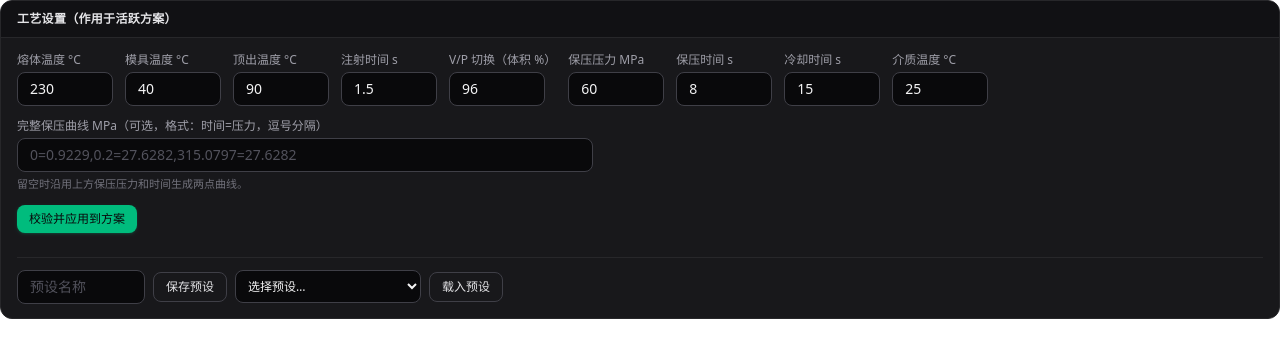
it: ProcessPanel › 校验发现问题：渲染问题清单且不写入方案
Type "999" into the number field labelled "熔体温度 °C".
click(65, 89); type("999")  # box [17,72,113,106]
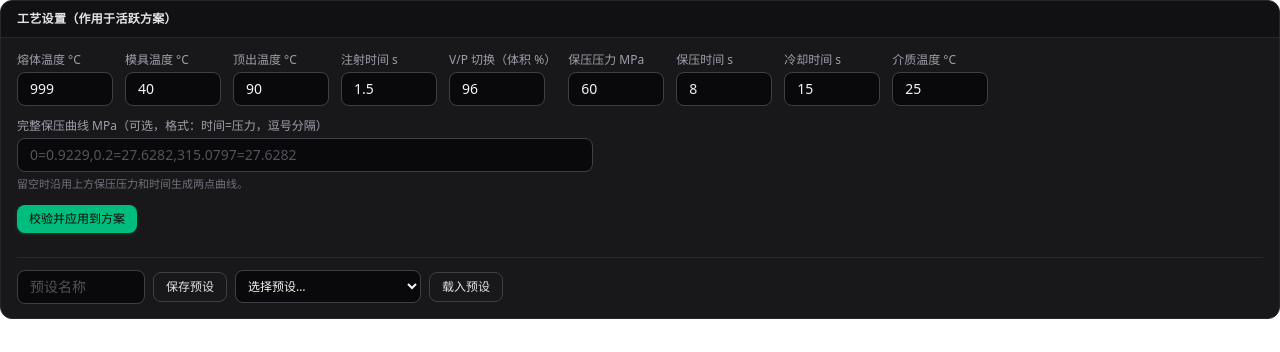
Click the button "校验并应用到方案".
click(77, 218)  # box [17,204,137,232]
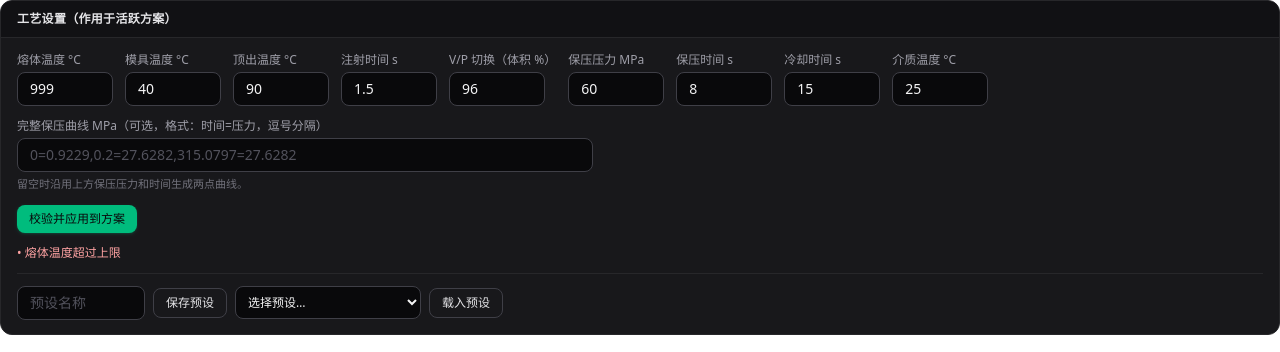
expect the text "• 熔体温度超过上限" is shown: met, box [17,244,121,260]
